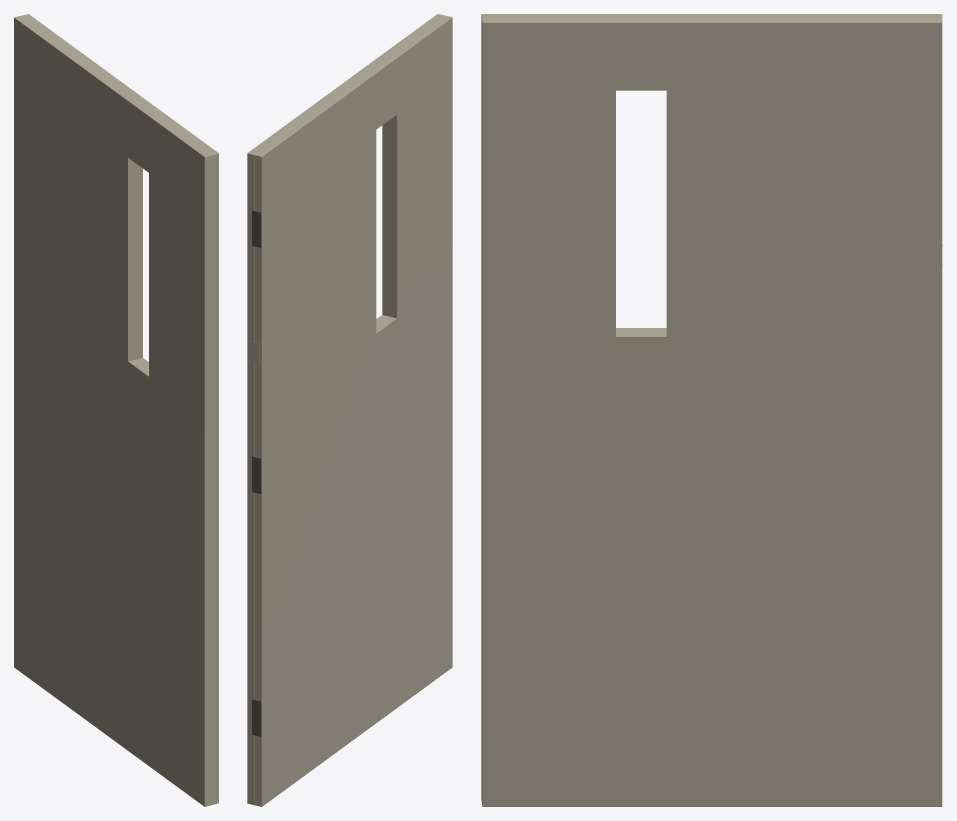
File: Kit_DoorLeaf_StairWide.fbx
3 views of the same model, side by side, from view 1: azimuth 30°, elevation 25°; view 2: azimuth 150°, elevation 25°; view 3: azimuth 270°, elevation 25° (orthographic). The views are drawn at different scales.
Visible parts, largest first — view 1: Kit_DoorLeaf_StairWide_LOD0; view 2: Kit_DoorLeaf_StairWide_LOD0; view 3: Kit_DoorLeaf_StairWide_LOD0.
Boxes of the visible parts, x1=… form: Kit_DoorLeaf_StairWide_LOD0: x1=14, y1=14, x2=218, y2=806; Kit_DoorLeaf_StairWide_LOD0: x1=247, y1=14, x2=452, y2=806; Kit_DoorLeaf_StairWide_LOD0: x1=481, y1=14, x2=942, y2=806.
Size of what is drawn, in the model's own units: 0.05 by 2.09 by 1.11.
